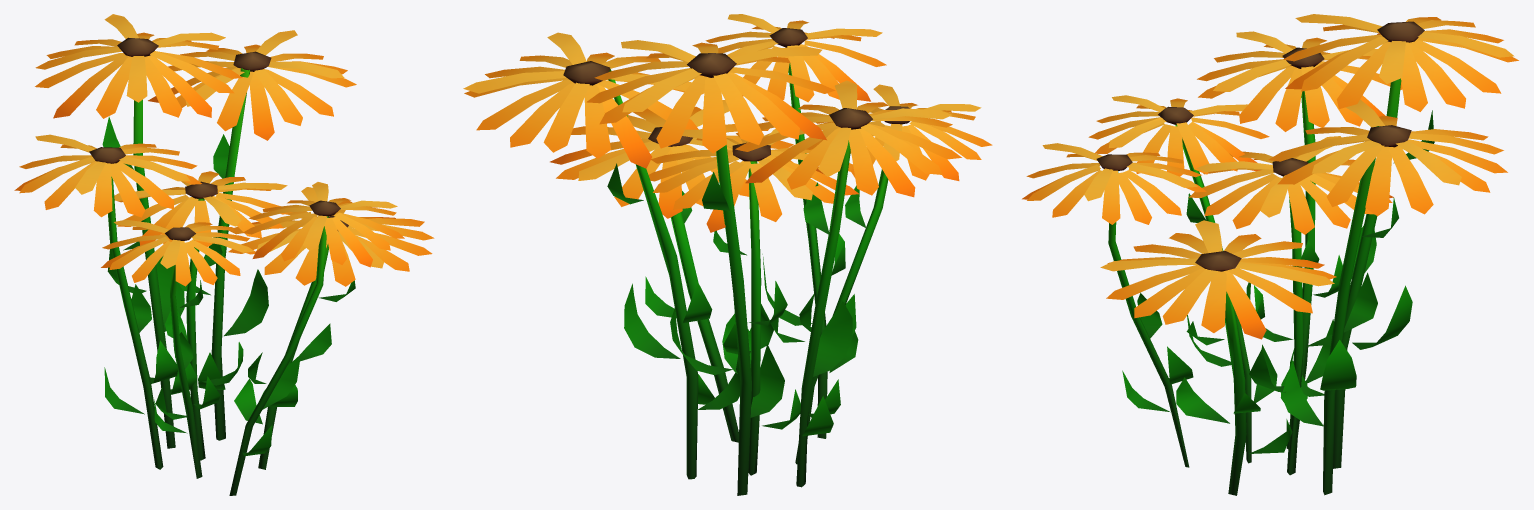
File: flower (6)_LOD1.fbx
3 views of the same model, side by side, from view 1: azimuth 30°, elevation 25°; view 2: azimuth 150°, elevation 25°; view 3: azimuth 270°, elevation 25° (orthographic). The views are drawn at different scales.
Parts seen in each view (by area): view 1: 05_BlackEyedSusan; view 2: 05_BlackEyedSusan; view 3: 05_BlackEyedSusan.
Boxes of the visible parts, x1=… form: 05_BlackEyedSusan: x1=14, y1=14, x2=434, y2=495; 05_BlackEyedSusan: x1=463, y1=14, x2=992, y2=495; 05_BlackEyedSusan: x1=1022, y1=14, x2=1518, y2=495.
Bounding box in the file's own units: 90.38 × 92.77 × 94.86.
